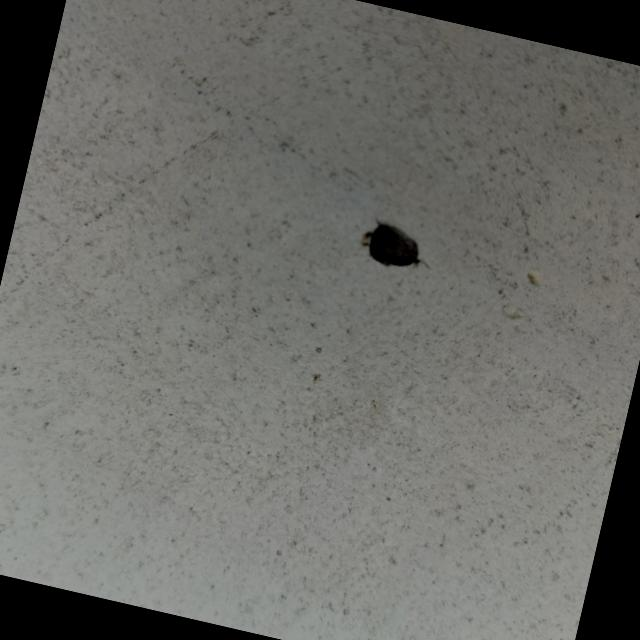surface_peeling: (345, 212, 434, 278)
